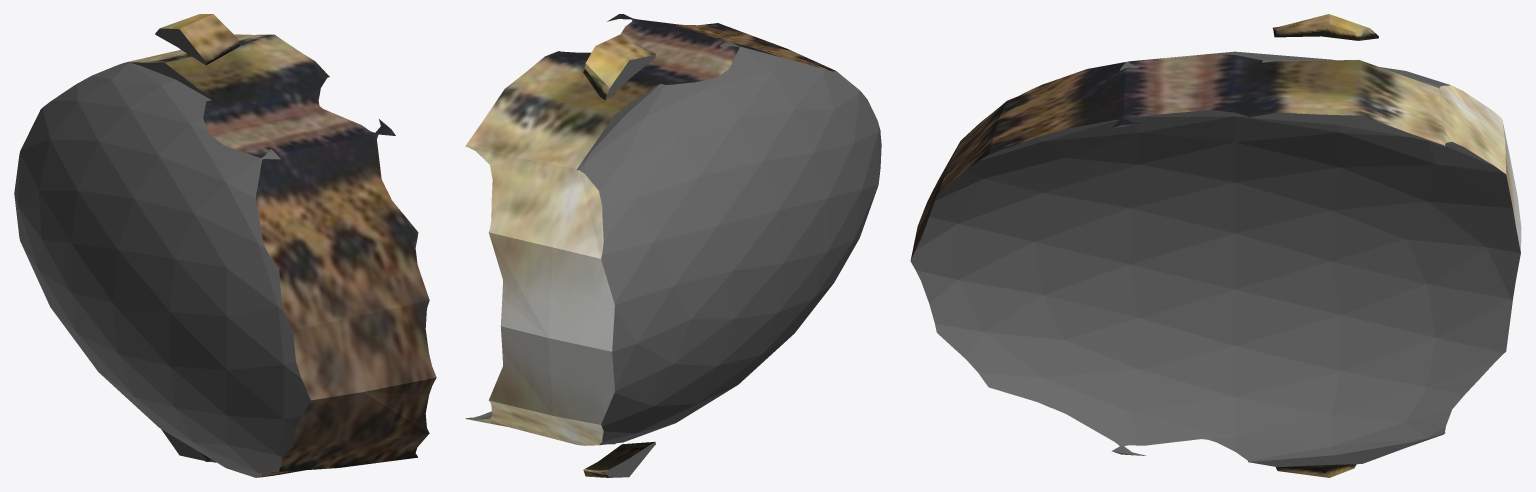
3 views of the same model, side by side, from view 1: azimuth 30°, elevation 25°; view 2: azimuth 150°, elevation 25°; view 3: azimuth 270°, elevation 25° (orthographic). The views are drawn at different scales.
Visible parts, largest first — view 1: link_3_visual; view 2: link_3_visual; view 3: link_3_visual.
Boxes of the visible parts, x1,y1,x2,y2 form: link_3_visual: [14, 14, 436, 477]; link_3_visual: [465, 14, 881, 477]; link_3_visual: [910, 14, 1521, 477].
Bounding box in the file's own units: 0.00141 × 0.00264 × 0.00323.
Materials: 1 (1 with a texture image).
